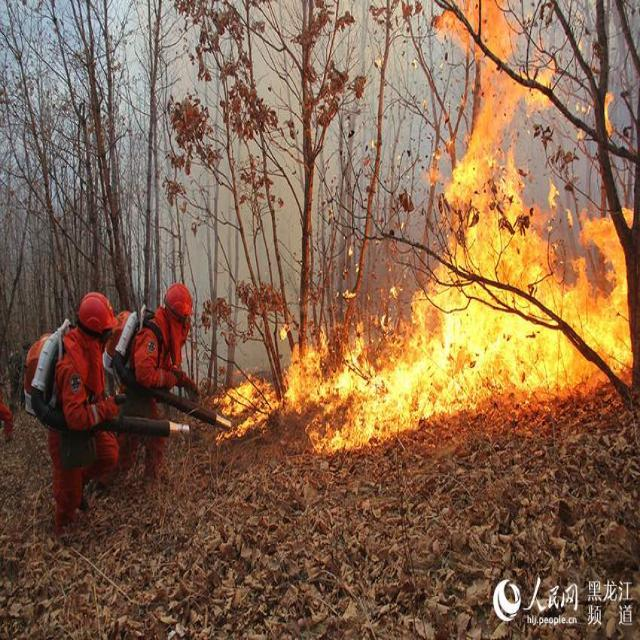Fire: (212, 0, 634, 456)
